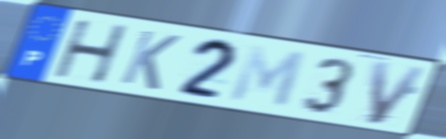2: (173, 37, 241, 104)
3: (300, 56, 356, 115)
H: (51, 18, 132, 85)
K: (117, 28, 184, 93)
M: (226, 43, 309, 111)
V: (367, 59, 431, 127)
